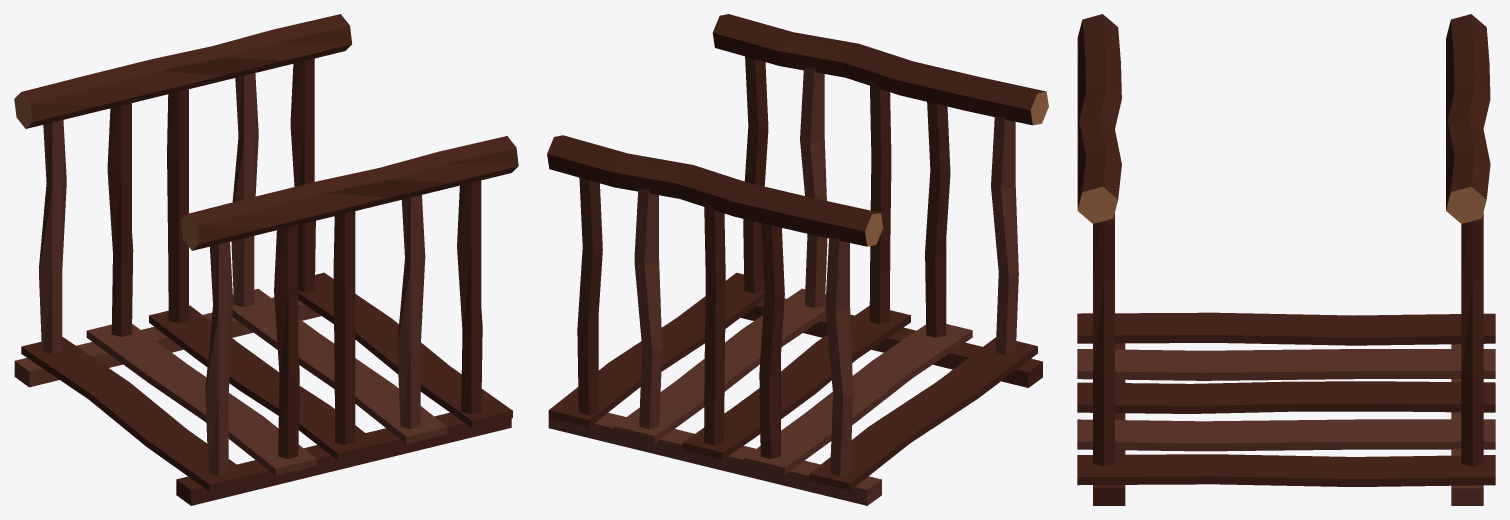
File: bridge 1x1.fbx
3 views of the same model, side by side, from view 1: azimuth 30°, elevation 25°; view 2: azimuth 150°, elevation 25°; view 3: azimuth 270°, elevation 25° (orthographic). The views are drawn at different scales.
Parts seen in each view (by area): view 1: Cylinder_5, Cylinder_5_2, Cube, Cube_1, Cube_2, Cube_3, Cube_4, Cube_6, Cylinder_4, Cylinder_1, Cylinder_2_3, Cylinder (+7 smaller); view 2: Cylinder_5_2, Cylinder_5, Cube, Cube_1, Cube_2, Cube_4, Cube_3, Cube_5, Cylinder_3_2, Cylinder, Cylinder_2_3, Cylinder_1 (+7 smaller); view 3: Cube_4, Cube_3, Cube_2, Cube, Cube_1, Cylinder_5, Cylinder_5_2, Cylinder_4_2, Cylinder_4, Cube_6, Cube_5.
Boxes of the visible parts, left/top/right/bottom form: Cylinder_5: left=181, top=136, right=518, bottom=250; Cylinder_5_2: left=14, top=14, right=351, bottom=128; Cube: left=21, top=337, right=251, bottom=491; Cube_1: left=86, top=324, right=316, bottom=475; Cube_2: left=149, top=305, right=378, bottom=460; Cube_3: left=232, top=288, right=447, bottom=443; Cube_4: left=298, top=272, right=512, bottom=427; Cube_6: left=176, top=412, right=511, bottom=505; Cylinder_4: left=457, top=180, right=482, bottom=414; Cylinder_1: left=274, top=225, right=299, bottom=458; Cylinder_2_3: left=39, top=120, right=66, bottom=353; Cylinder: left=205, top=241, right=233, bottom=475; Cylinder_5_2: left=547, top=135, right=883, bottom=246; Cylinder_5: left=712, top=14, right=1048, bottom=125; Cube: left=809, top=337, right=1037, bottom=490; Cube_1: left=744, top=324, right=972, bottom=474; Cube_2: left=682, top=306, right=910, bottom=459; Cube_4: left=548, top=272, right=764, bottom=427; Cube_3: left=614, top=288, right=825, bottom=442; Cube_5: left=548, top=412, right=881, bottom=505; Cylinder_3_2: left=634, top=188, right=662, bottom=429; Cylinder: left=991, top=116, right=1018, bottom=354; Cylinder_2_3: left=825, top=238, right=853, bottom=475; Cylinder_1: left=925, top=102, right=950, bottom=337; Cube_4: left=1077, top=454, right=1495, bottom=486; Cube_3: left=1077, top=419, right=1495, bottom=451; Cube_2: left=1077, top=381, right=1495, bottom=413; Cube: left=1077, top=312, right=1495, bottom=345; Cube_1: left=1077, top=349, right=1495, bottom=380; Cylinder_5: left=1077, top=14, right=1121, bottom=223; Cylinder_5_2: left=1446, top=14, right=1490, bottom=223; Cylinder_4_2: left=1461, top=212, right=1483, bottom=466; Cylinder_4: left=1093, top=213, right=1114, bottom=466; Cube_6: left=1093, top=343, right=1125, bottom=505; Cube_5: left=1451, top=344, right=1483, bottom=505.
Bounding box in the file's own units: 416 × 359 × 425.
